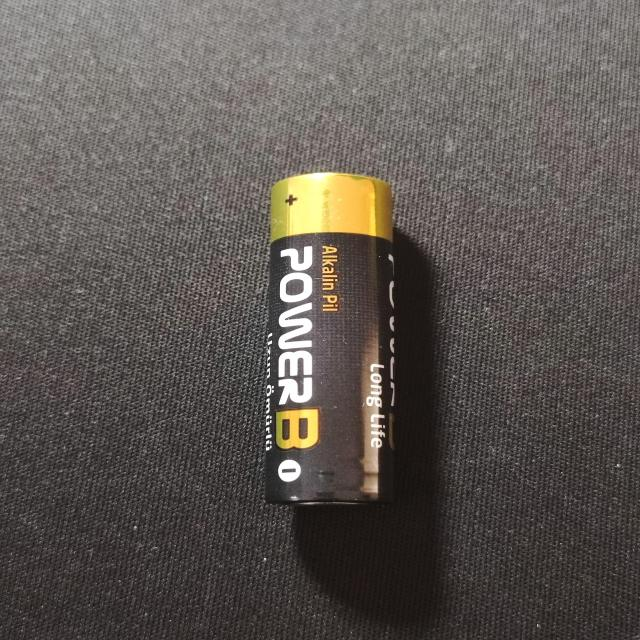AA: (259, 166, 401, 514)
